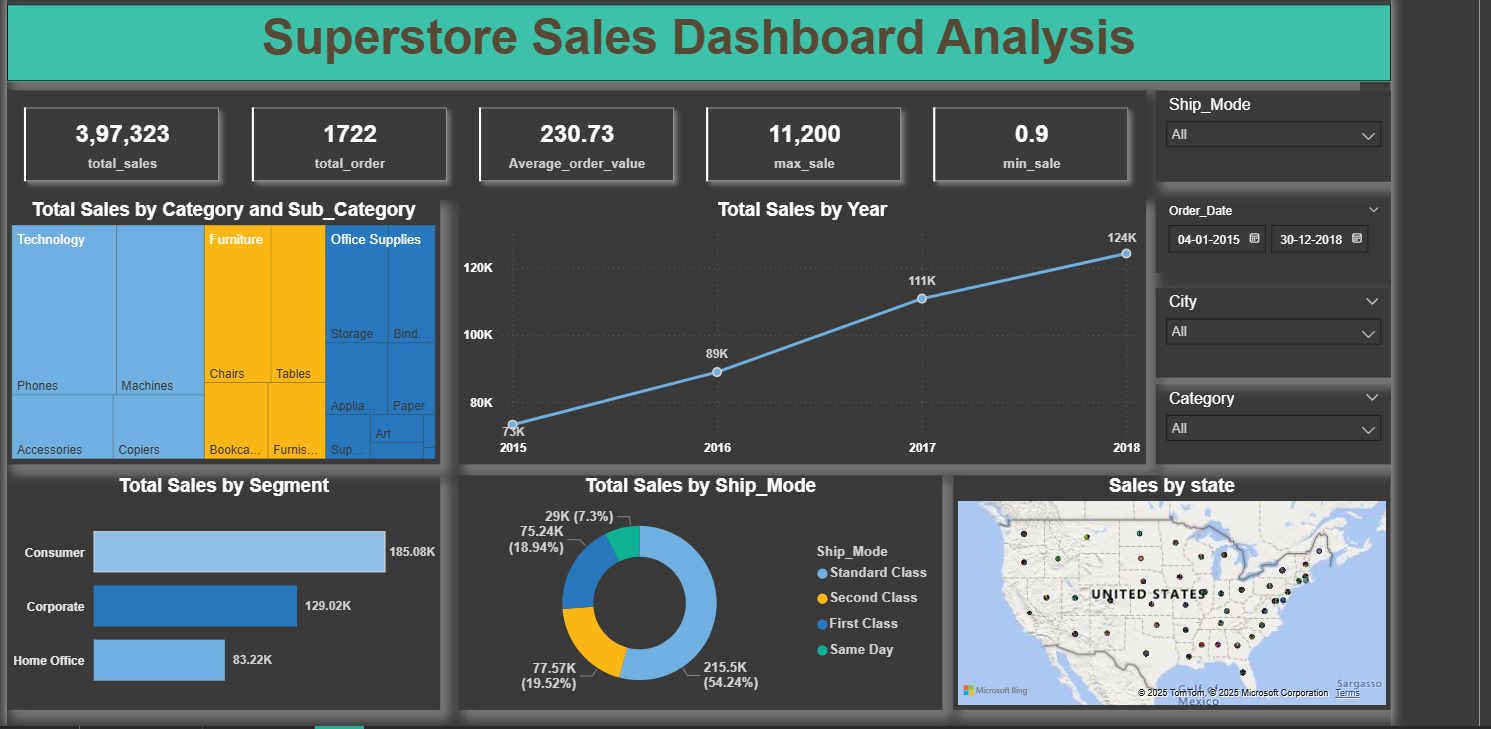

This screenshot's page, from the dashboard's own definition file:
{"tool":"powerbi","page":{"name":"dashbaord","canvas":[1370,726],"ordinal":0},"visuals":[{"type":"lineChart","title":"Total Sales by Year","fields":{"Y":["Sum(superstore_final_dataset (1).Sales)"],"Category":["superstore_final_dataset (1).Order_Date.Variation.Date Hierarchy.Year"]},"box":[446.6,204.1,680.5,262.3],"z":0},{"type":"barChart","title":"Total Sales by Segment","fields":{"Y":["Sum(superstore_final_dataset (1).Sales)"],"Category":["superstore_final_dataset (1).Segment"]},"box":[0,477.9,429,232.1],"z":1000},{"type":"donutChart","title":"Total Sales by Ship_Mode","fields":{"Y":["Sum(superstore_final_dataset (1).Sales)"],"Category":["superstore_final_dataset (1).Ship_Mode"]},"box":[446.5,477.9,479.2,232.1],"z":2000},{"type":"map","title":"Sales by state","fields":{"Series":["superstore_final_dataset (1).Sales"],"Category":["superstore_final_dataset (1).State"]},"box":[937,477.9,432.7,232.1],"z":3000},{"type":"treemap","title":"Total Sales by Category and Sub_Category","fields":{"Values":["Sum(superstore_final_dataset (1).Sales)"],"Group":["superstore_final_dataset (1).Category"],"Details":["superstore_final_dataset (1).Sub_Category"]},"box":[0,204.5,429,262.2],"z":4000},{"type":"textbox","box":[0,11.3,1369.7,76.5],"z":5000},{"type":"cardVisual","fields":{"Data":["superstore_final_dataset (1).total_sales","superstore_final_dataset (1).total_order","superstore_final_dataset (1).Average_order_value","superstore_final_dataset (1).max_sale","superstore_final_dataset (1).min_sale"]},"box":[0,96.6,1127.6,107.9],"z":6000},{"type":"slicer","fields":{"Values":["superstore_final_dataset (1).Category"]},"box":[1136.4,387.6,233.3,79],"z":7000},{"type":"slicer","fields":{"Values":["superstore_final_dataset (1).City"]},"box":[1136.4,292.3,233.3,89.1],"z":8000},{"type":"slicer","fields":{"Values":["superstore_final_dataset (1).Order_Date"]},"box":[1136.4,204.5,233.3,72.8],"z":9000},{"type":"slicer","fields":{"Values":["superstore_final_dataset (1).Ship_Mode"]},"box":[1136.4,96.6,233.3,90.3],"z":10000}]}

Visuals, with their boxes on the page's 1370x726 design canvas (x1, y1, x2, y2). These are canvas units, not pixel positions in the 1491x729 screenshot, which may show the page scaled, cropped or inside an application window:
"Total Sales by Year" lineChart: bbox=[447, 204, 1127, 466]
"Total Sales by Segment" barChart: bbox=[0, 478, 429, 710]
"Total Sales by Ship_Mode" donutChart: bbox=[446, 478, 926, 710]
"Sales by state" map: bbox=[937, 478, 1370, 710]
"Total Sales by Category and Sub_Category" treemap: bbox=[0, 204, 429, 467]
textbox: bbox=[0, 11, 1370, 88]
cardVisual - superstore_final_dataset (1).total_sales x superstore_final_dataset (1).total_order: bbox=[0, 97, 1128, 204]
slicer - superstore_final_dataset (1).Category: bbox=[1136, 388, 1370, 467]
slicer - superstore_final_dataset (1).City: bbox=[1136, 292, 1370, 381]
slicer - superstore_final_dataset (1).Order_Date: bbox=[1136, 204, 1370, 277]
slicer - superstore_final_dataset (1).Ship_Mode: bbox=[1136, 97, 1370, 187]
